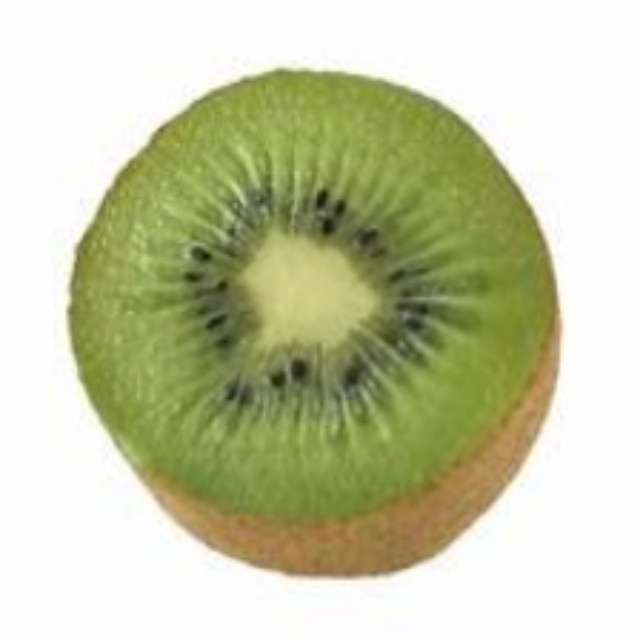kiwi: (70, 76, 543, 580)
